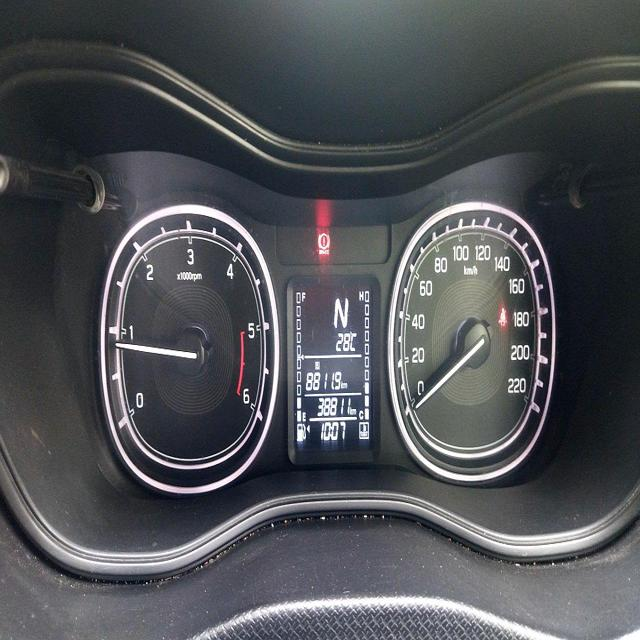odometer: (316, 395, 351, 419)
